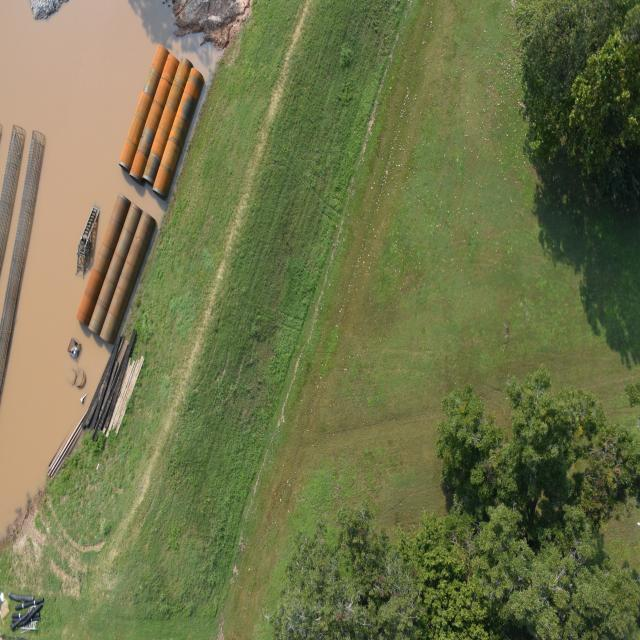fire: (0, 0, 221, 536)
